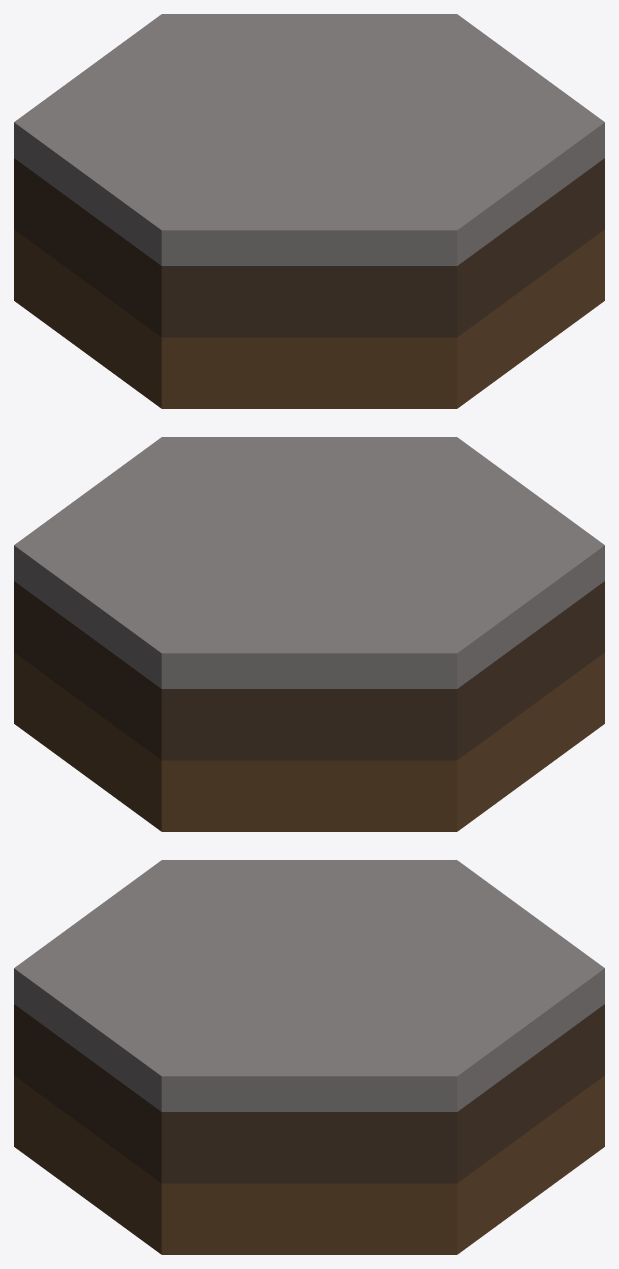
The model's file is terrains-hexagon-grey.glb.
The picture shows the model from 3 angles, top to bottom: view 1: azimuth 30°, elevation 25°; view 2: azimuth 150°, elevation 25°; view 3: azimuth 270°, elevation 25°; orthographic projection.
Parts seen in each view (by area): view 1: hexagon_grey; view 2: hexagon_grey; view 3: hexagon_grey.
Part boxes in pixels (box(x1,y1,x2,y2)): hexagon_grey: box(14, 14, 604, 408); hexagon_grey: box(14, 437, 604, 831); hexagon_grey: box(14, 860, 604, 1254).
Bounding box in the file's own units: 25.98 × 10 × 30.
